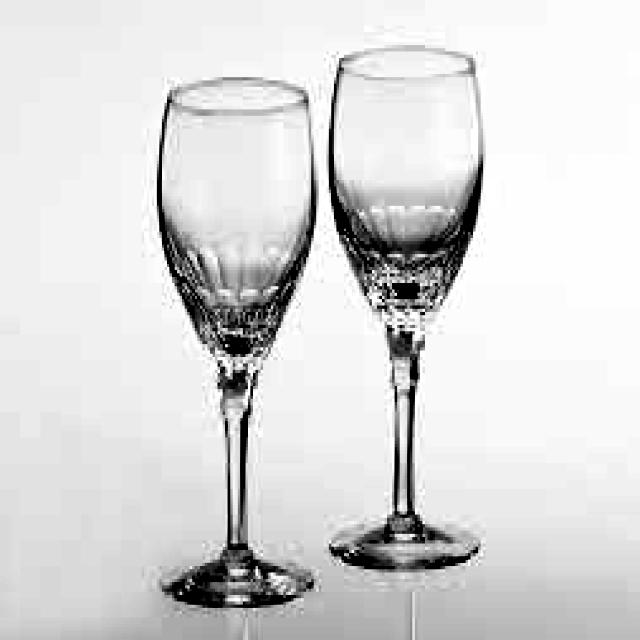Glass: (152, 75, 322, 612), (329, 42, 484, 573)
